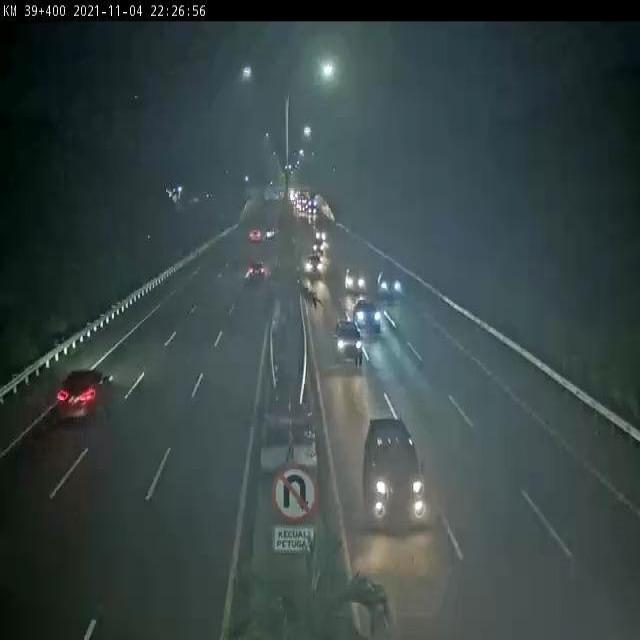car: (360, 412, 430, 524), (57, 366, 118, 418), (332, 318, 364, 362), (352, 295, 383, 333), (376, 268, 403, 300), (344, 265, 369, 295), (246, 259, 267, 281), (305, 255, 324, 277)
